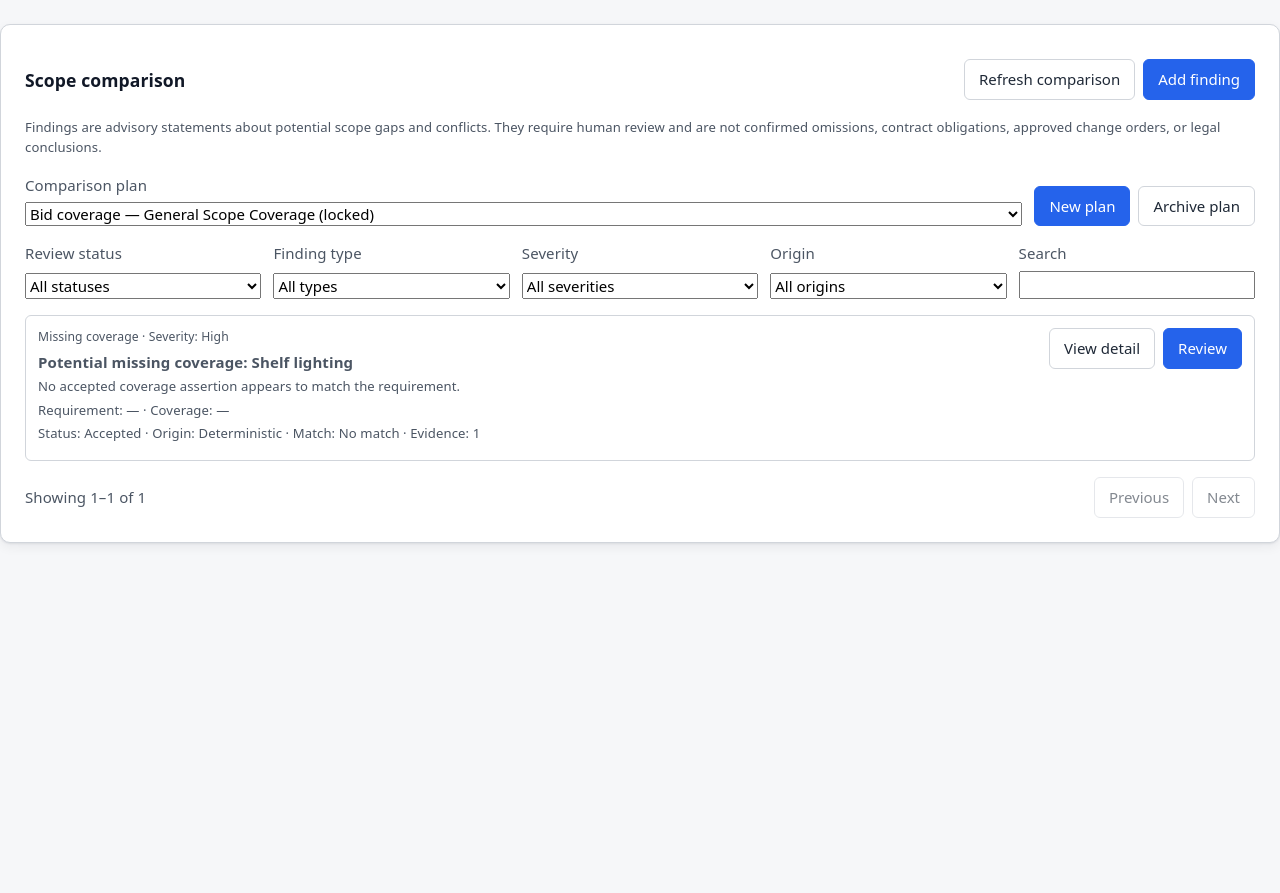
Follow-up panel › states plainly that FieldFlow creates no record for the user
What coordinates should you click on to do the following:
click the button "View detail"
I would click on:
 (1102, 349)
Its box is [1049,328,1155,369].
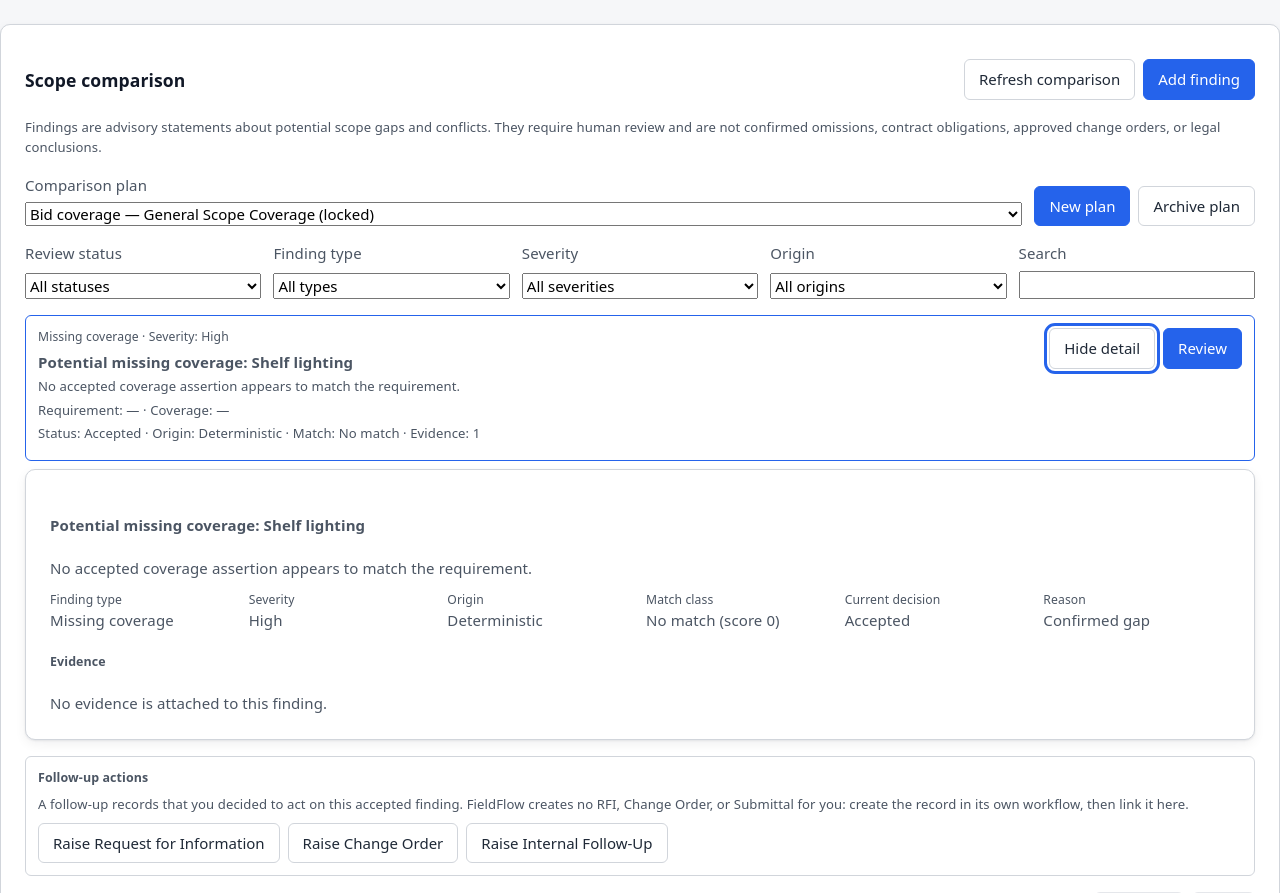
Result: the text "FieldFlow creates no RFI, Change Order, or Submittal for you" is shown at [38,795,1189,813]
